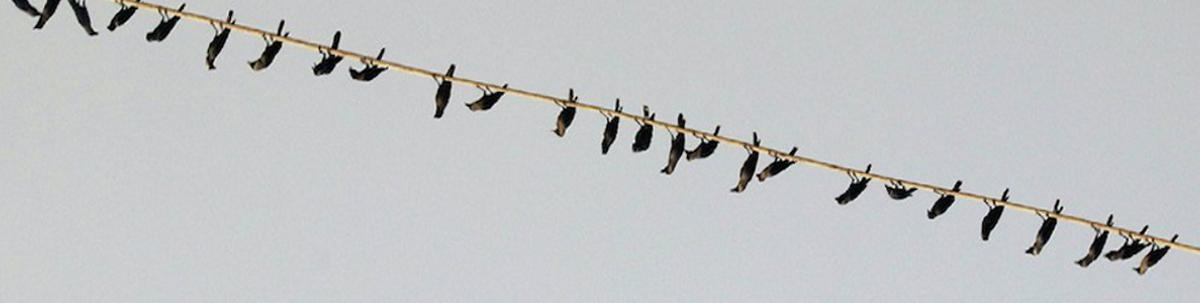crow: (1016, 193, 1072, 260), (727, 124, 761, 193), (460, 79, 520, 117), (547, 86, 588, 139), (656, 105, 684, 176), (754, 145, 809, 181), (682, 126, 727, 167), (626, 104, 658, 160), (594, 98, 623, 158)
